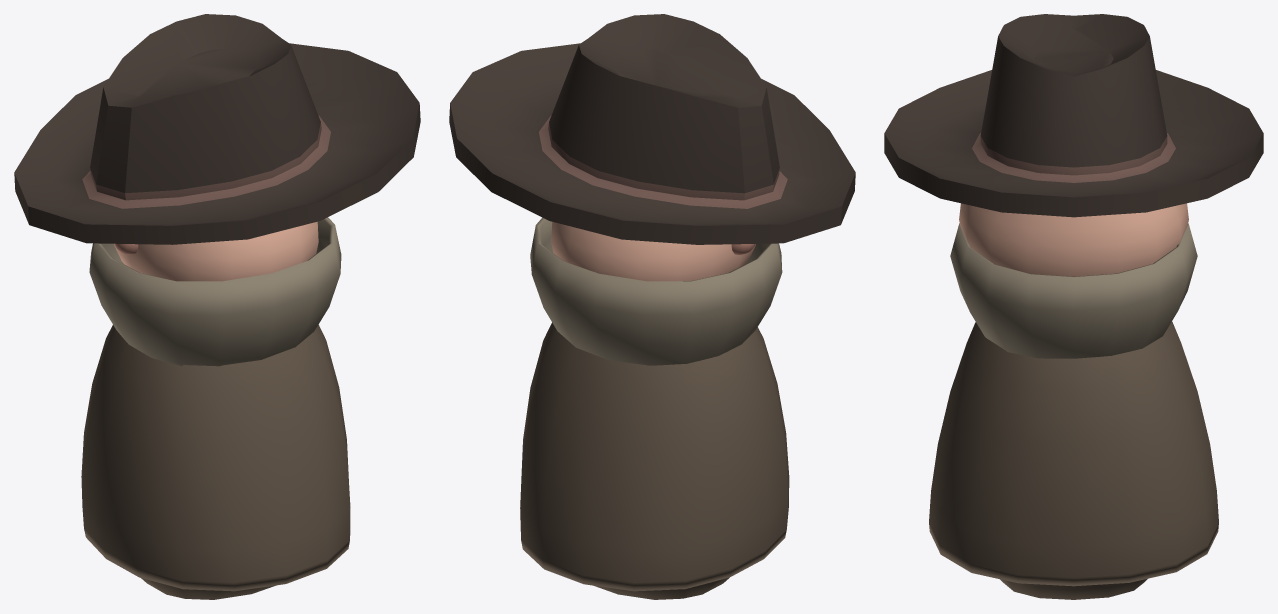
The model's file is wierd_man.fbx.
The picture shows the model from 3 angles, left to right: view 1: azimuth 30°, elevation 25°; view 2: azimuth 150°, elevation 25°; view 3: azimuth 270°, elevation 25°; orthographic projection. The views are drawn at different scales.
Parts seen in each view (by area): view 1: Bottom.001; view 2: Bottom.001; view 3: Bottom.001.
Boxes of the visible parts, box(x1,y1,x2,y2) form: Bottom.001: box(14, 14, 420, 599); Bottom.001: box(449, 14, 855, 599); Bottom.001: box(884, 14, 1263, 599).
Bounding box in the file's own units: 482 × 658 × 418.
